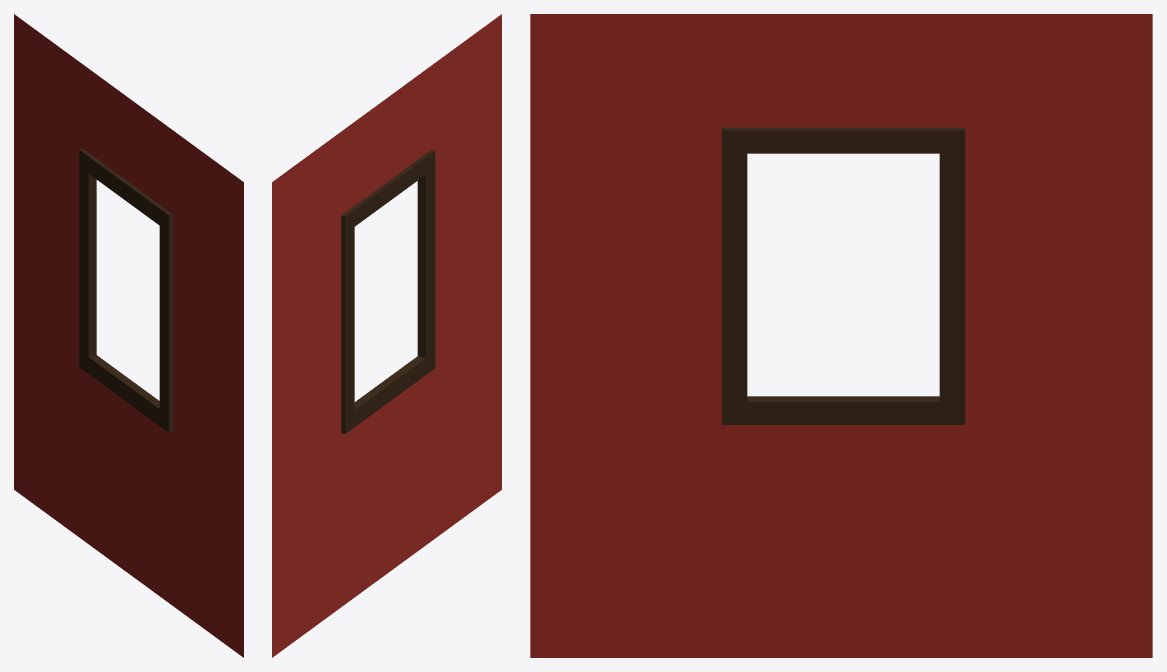
Rendered from Wall_Window.FBX.
3 views of the same model, side by side, from view 1: azimuth 30°, elevation 25°; view 2: azimuth 150°, elevation 25°; view 3: azimuth 270°, elevation 25° (orthographic). The views are drawn at different scales.
Parts seen in each view (by area): view 1: Plane008; view 2: Plane008; view 3: Plane008.
Boxes of the visible parts, box(x1,y1,x2,y2) form: Plane008: box(14, 14, 243, 657); Plane008: box(272, 14, 501, 657); Plane008: box(530, 14, 1152, 657).
Size of the model in its own units: 1.63 by 89.93 by 78.74.
